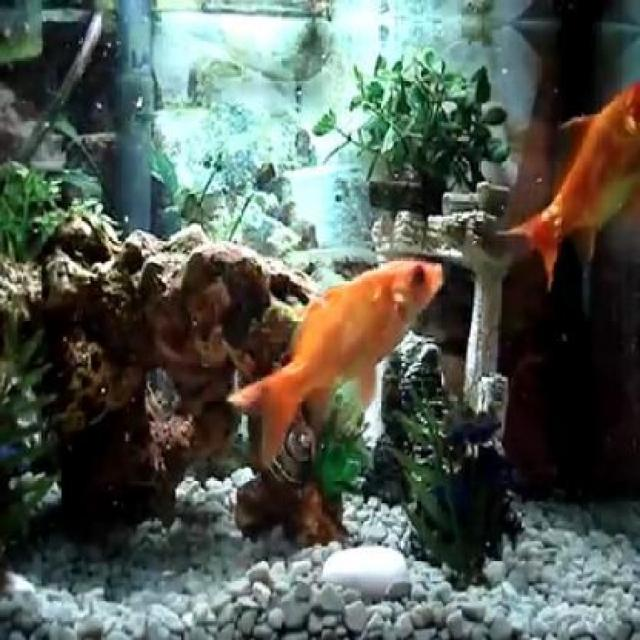GoldFish: (229, 247, 443, 465), (497, 76, 638, 293)
